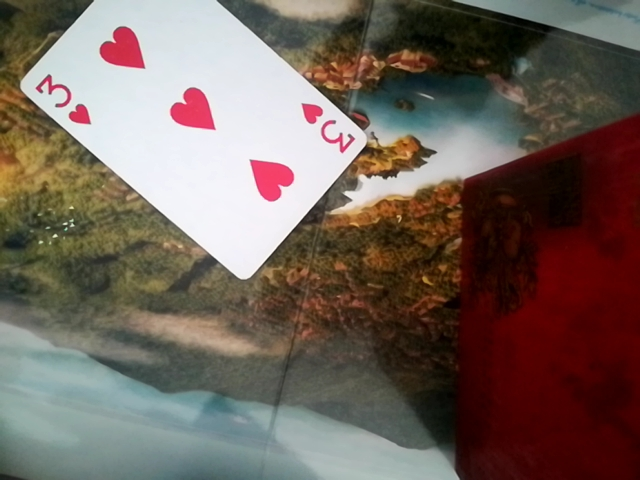hx 3: (19, 5, 364, 282)
